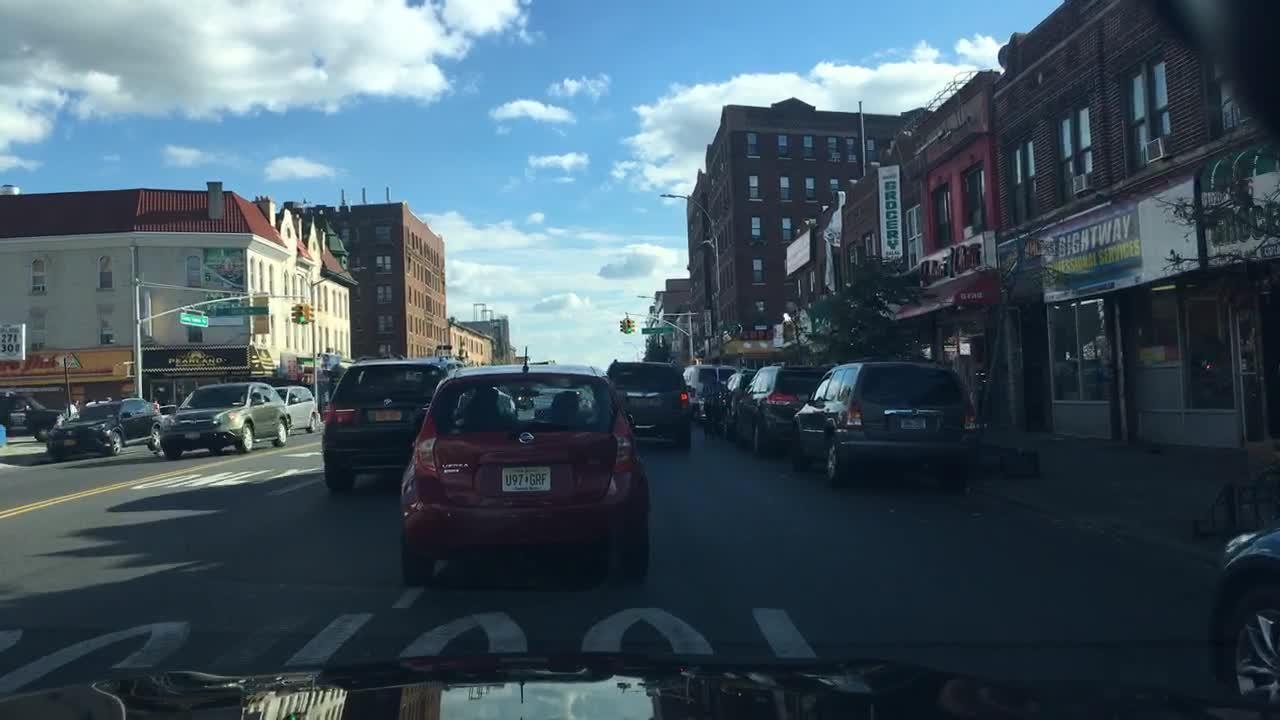Nissan: (514, 423, 543, 449)
bmw: (381, 395, 397, 409)
